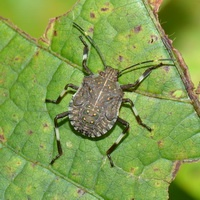insect: (45, 22, 174, 166)
